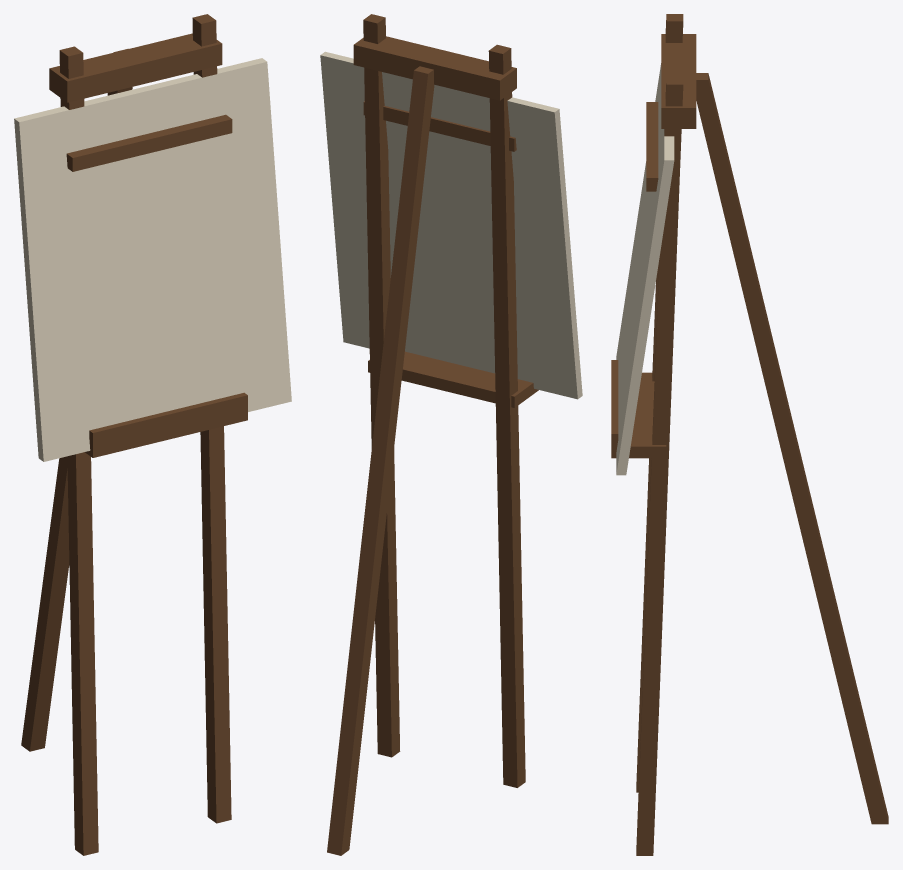
Rendered from FN_Easel_Artist.obj.
The picture shows the model from 3 angles, left to right: view 1: azimuth 30°, elevation 25°; view 2: azimuth 150°, elevation 25°; view 3: azimuth 270°, elevation 25°; orthographic projection. The views are drawn at different scales.
Visible parts, largest first — view 1: FN_Easel_Artist; view 2: FN_Easel_Artist; view 3: FN_Easel_Artist.
Part boxes in pixels (<box>): FN_Easel_Artist: <box>14,14,291,855</box>; FN_Easel_Artist: <box>320,14,582,855</box>; FN_Easel_Artist: <box>611,14,888,855</box>.
Size of the model in its own units: 0.56 by 1.7 by 0.554.
1 material, 1 textured.
